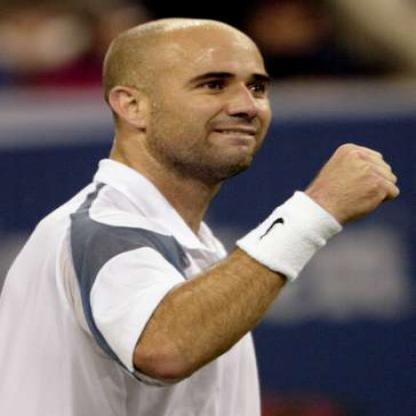face: (144, 22, 281, 179)
